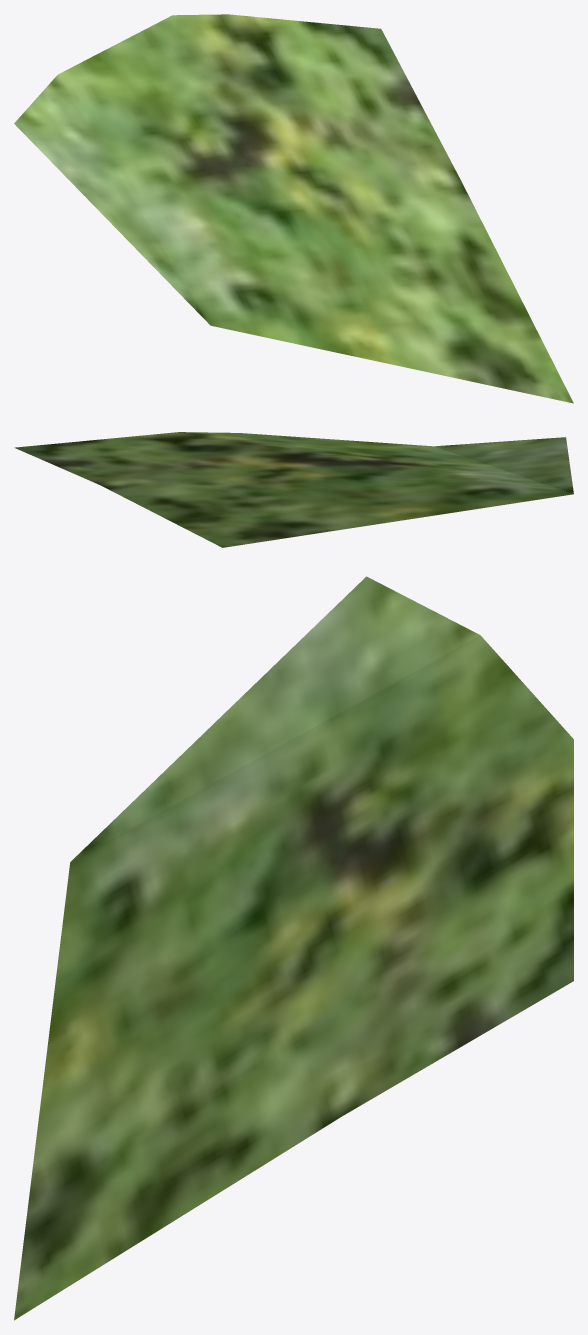
3 renders of one model, top to bottom at view 1: azimuth 30°, elevation 25°; view 2: azimuth 150°, elevation 25°; view 3: azimuth 270°, elevation 25°, orthographic. The views are drawn at different scales.
Bounding box in the file's own units: 0.8726 × 0.5668 × 0.6641.
1 material, 1 textured.
